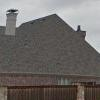Chimney: (4, 3, 23, 39)
